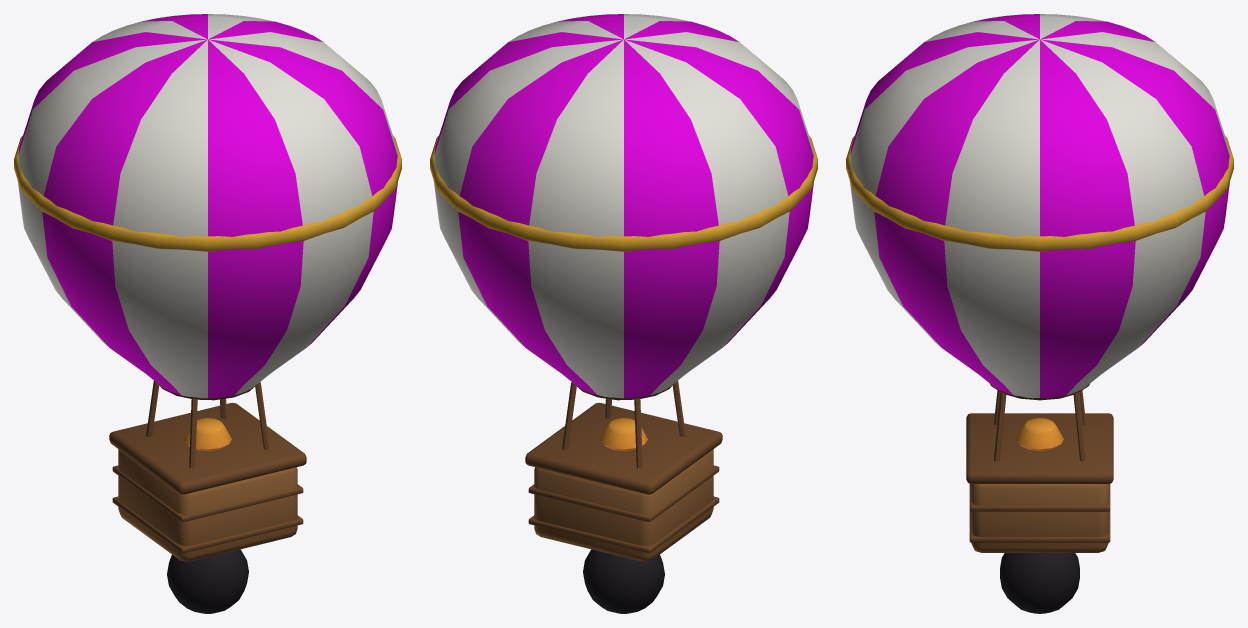
Rendered from balao.glb.
3 renders of one model, left to right at view 1: azimuth 30°, elevation 25°; view 2: azimuth 150°, elevation 25°; view 3: azimuth 270°, elevation 25°, orthographic.
Visible parts, largest first — view 1: corpo, bomba; view 2: corpo, bomba; view 3: corpo, bomba.
Boxes of the visible parts, left/top/right/bottom form: corpo: left=14, top=14, right=401, bottom=561; bomba: left=167, top=549, right=248, bottom=613; corpo: left=430, top=14, right=817, bottom=561; bomba: left=583, top=549, right=664, bottom=613; corpo: left=846, top=14, right=1233, bottom=552; bomba: left=1000, top=553, right=1079, bottom=613.
Bounding box in the file's own units: 2.26 × 3.67 × 2.26.
